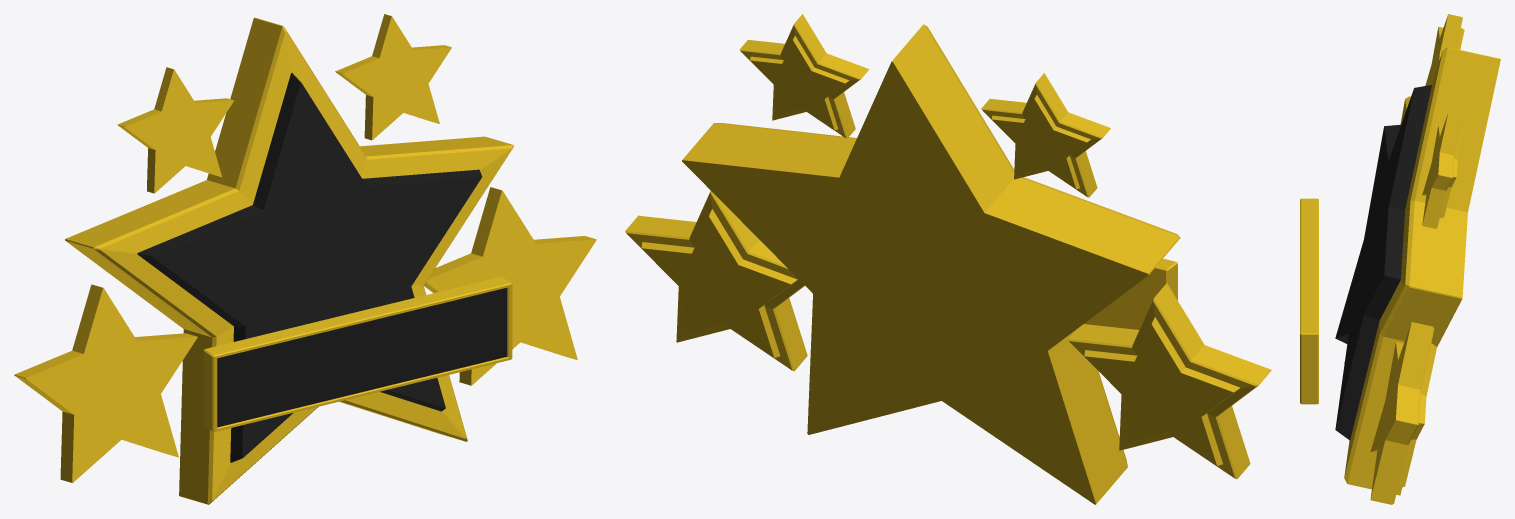
File: StatusBoard.fbx
3 renders of one model, left to right at view 1: azimuth 30°, elevation 25°; view 2: azimuth 150°, elevation 25°; view 3: azimuth 270°, elevation 25°, orthographic. The views are drawn at different scales.
Parts seen in each view (by area): view 1: Stars, Board; view 2: Stars, Board; view 3: Stars, Board.
Boxes of the visible parts, x1,y1,x2,y2 form: Stars: (14,14,596,504); Board: (203,276,512,432); Stars: (625,14,1271,504); Board: (1084,258,1177,329); Stars: (1335,14,1500,504); Board: (1300,198,1318,404).
Size of the model in its own units: 872 by 613 by 287.
